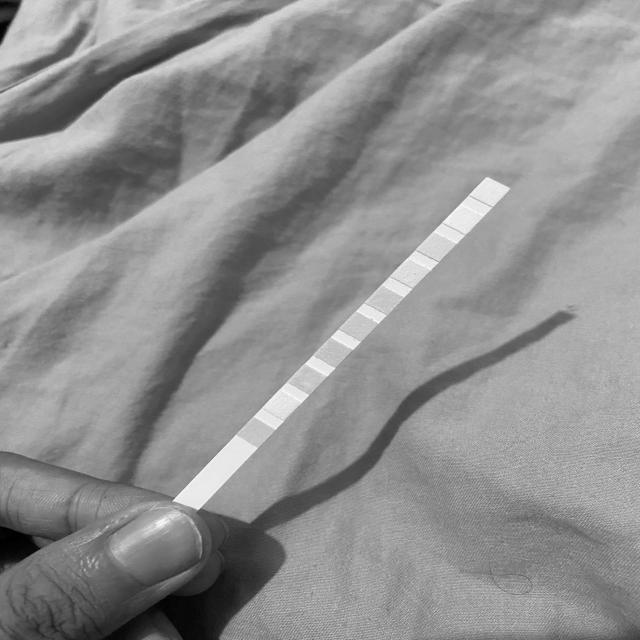Bilirubin: (271, 400, 293, 412)
Blood: (348, 321, 370, 333)
Glucose: (246, 426, 265, 439)
Ketone: (296, 374, 318, 386)
Leukocytes: (479, 187, 502, 200)
Nitrite: (453, 213, 475, 227)
Protein: (399, 267, 422, 280)
SpGravity: (323, 347, 342, 359)
Urobilinogen: (426, 241, 448, 253)
background: (0, 0, 640, 640)
pH: (374, 294, 396, 307)
strip: (176, 178, 509, 509)
